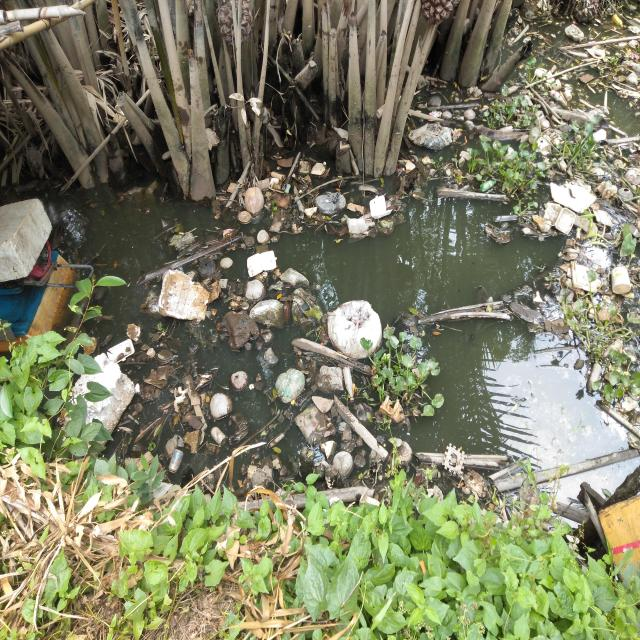litter: (81, 25, 621, 492)
